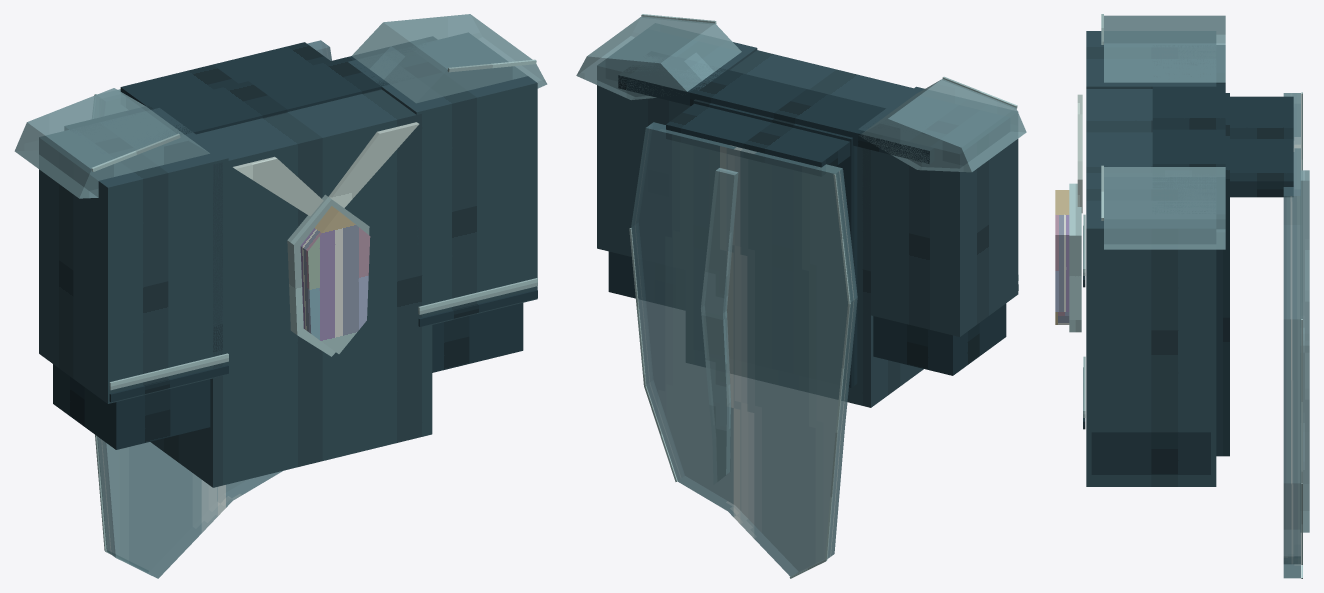
File: yuanying_jiuse_chestplate.obj
The picture shows the model from 3 angles, left to right: view 1: azimuth 30°, elevation 25°; view 2: azimuth 150°, elevation 25°; view 3: azimuth 270°, elevation 25°; orthographic projection. The views are drawn at different scales.
Visible parts, largest first — view 1: glass_body, glass_sleeve_-1, glass_sleeve_1, glass_cut_waterfall, jiu_shoulder_-1, jiu_shoulder_1, jiu_new_collar_root, jiu_heart, glass_under_sleeve_-1, glass_fall_root, jiu_inner_collar, glass_under_sleeve_1 (+5 smaller); view 2: glass_cut_waterfall, glass_sleeve_-1, glass_sleeve_1, jiu_new_collar_root, jiu_shoulder_-1, glass_body, jiu_shoulder_1, jiu_back_ridge, glass_fall_root, glass_under_sleeve_-1, glass_back_body, glass_under_sleeve_1; view 3: glass_sleeve_1, jiu_shoulder_1, jiu_shoulder_-1, jiu_new_collar_root, glass_cut_waterfall, glass_body, glass_sleeve_-1, glass_fall_root, glass_under_sleeve_1, glass_back_body, jiu_back_ridge, jiu_heart (+2 smaller).
Boxes of the visible parts, x1,y1,x2,y2 form: glass_body: (150,89,432,487); glass_sleeve_-1: (39,108,228,403); glass_sleeve_1: (348,32,537,324); glass_cut_waterfall: (97,40,331,578); jiu_shoulder_-1: (14,88,209,198); jiu_shoulder_1: (352,14,547,103); jiu_new_collar_root: (64,36,437,136); jiu_heart: (300,206,370,353); glass_under_sleeve_-1: (53,364,210,449); glass_fall_root: (120,42,329,105); jiu_inner_collar: (233,122,419,216); glass_under_sleeve_1: (432,303,523,372); glass_cut_waterfall: (631,122,857,576); glass_sleeve_-1: (858,86,1018,336); glass_sleeve_1: (597,29,757,256); jiu_new_collar_root: (618,51,933,163); jiu_shoulder_-1: (859,79,1026,172); glass_body: (686,50,923,407); jiu_shoulder_1: (576,16,741,100); jiu_back_ridge: (701,168,738,484); glass_fall_root: (666,103,850,176); glass_under_sleeve_-1: (873,303,1006,375); glass_back_body: (693,99,857,387); glass_under_sleeve_1: (608,251,635,298); glass_sleeve_1: (1086,173,1216,432); jiu_shoulder_1: (1104,167,1225,249); jiu_shoulder_-1: (1104,15,1225,82); jiu_new_collar_root: (1152,45,1225,228); glass_cut_waterfall: (1283,93,1300,578); glass_body: (1086,89,1216,486); glass_sleeve_-1: (1086,31,1216,88); glass_fall_root: (1230,96,1293,197); glass_under_sleeve_1: (1091,432,1210,474); glass_back_body: (1216,93,1229,456); jiu_back_ridge: (1300,170,1309,532); jiu_heart: (1055,190,1069,324).
Bounding box in the file's own units: 1.17 × 1.28 × 0.5863.
